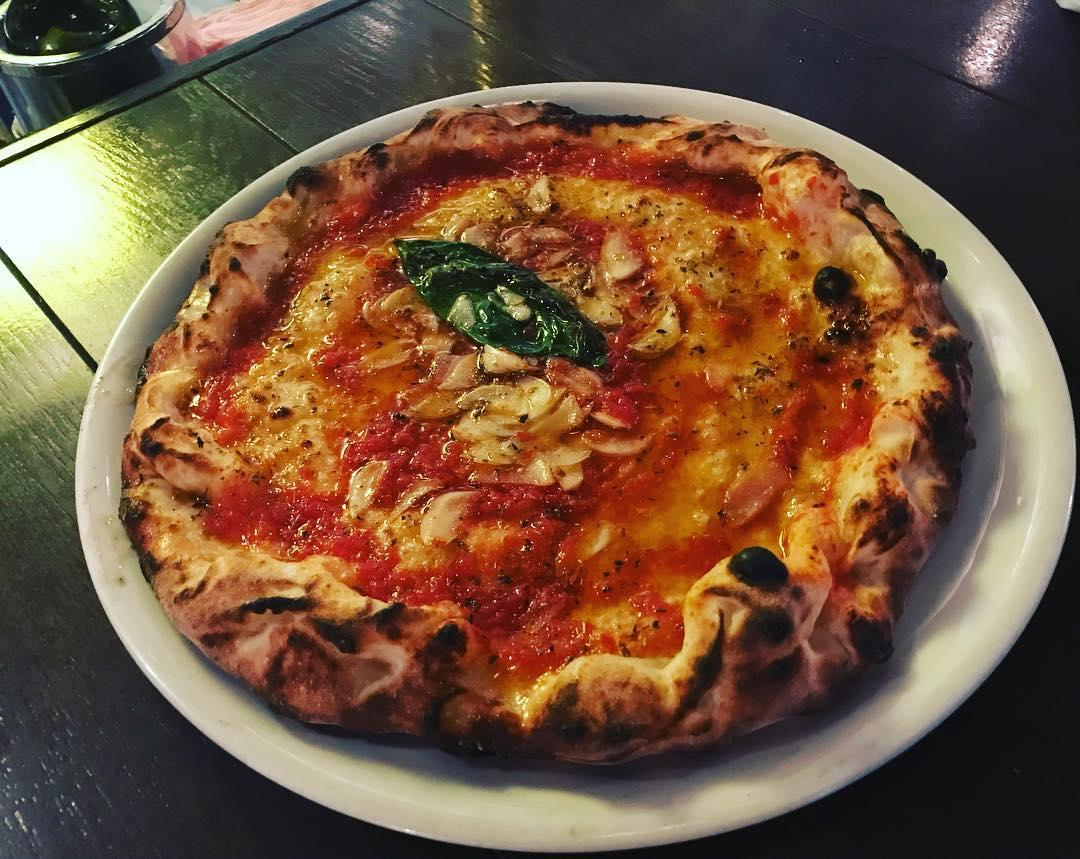Basil: (389, 232, 602, 368)
Pizza: (120, 95, 982, 752)
